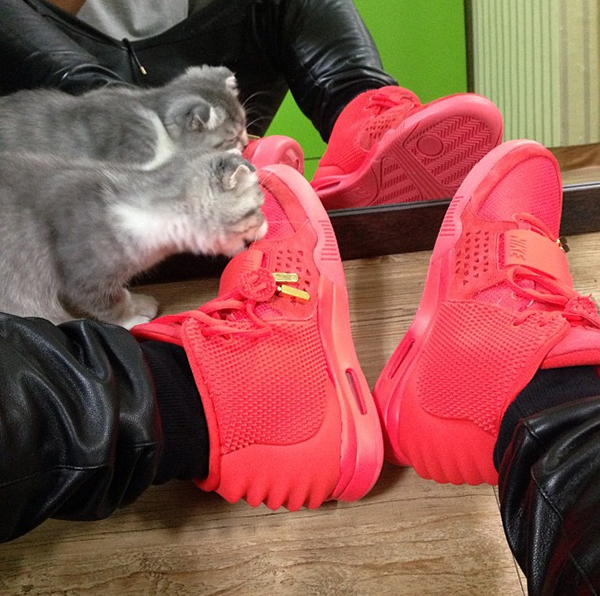Yeezy Red October: (120, 151, 391, 516), (367, 101, 600, 489)
